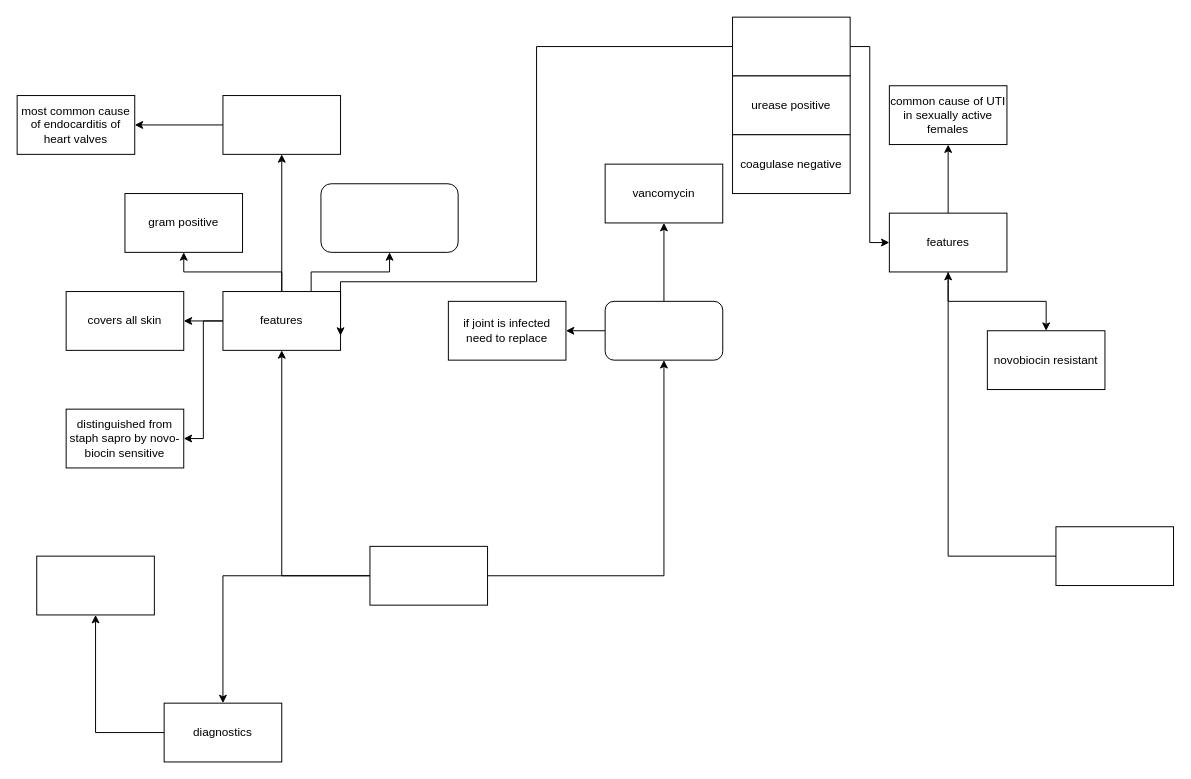
This 1191x779 diagram has some shape labels left out. The centre of each missing label's shape, as x and y in pixels:
catalase positive: point 791,46
has biofilm that allows it to stick to metal and resist antibiotics: point 389,217
infects artificial joints and cathitors: point 281,124
Staph Epidermidis: point 428,575
staph saprophyticus: point 1114,556
treatment: point 663,330
will show up on blood cultures because everywhere: point 95,585
